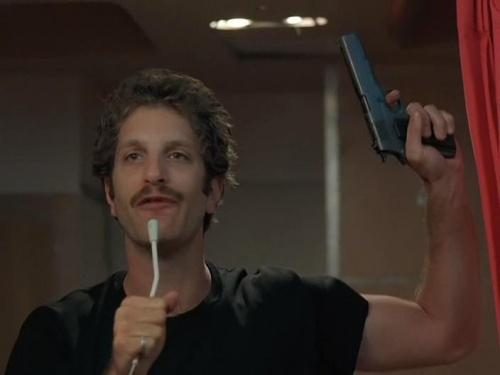Gun: (337, 31, 458, 164)
